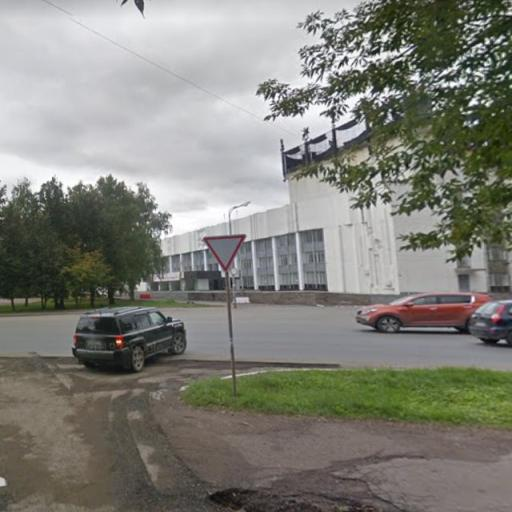traffic_sign: (200, 229, 252, 277)
